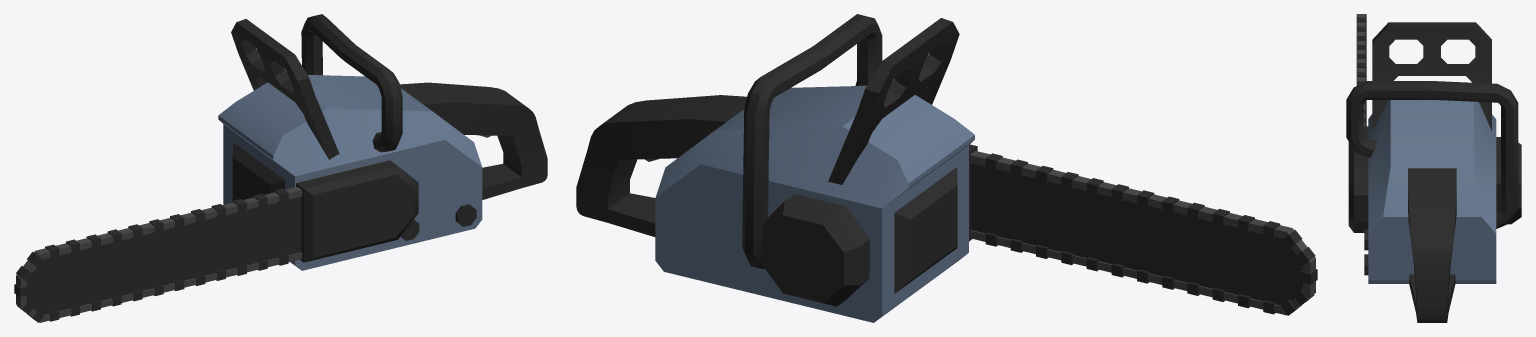
Rendered from Chainsaw_01.fbx.
3 views of the same model, side by side, from view 1: azimuth 30°, elevation 25°; view 2: azimuth 150°, elevation 25°; view 3: azimuth 270°, elevation 25° (orthographic). The views are drawn at different scales.
Parts seen in each view (by area): view 1: Chainsaw_01; view 2: Chainsaw_01; view 3: Chainsaw_01.
Part boxes in pixels (left/top/right/bottom): Chainsaw_01: left=14, top=14, right=547, bottom=322; Chainsaw_01: left=576, top=14, right=1317, bottom=322; Chainsaw_01: left=1346, top=14, right=1521, bottom=322.
Bounding box in the file's own units: 91.02 × 32.01 × 27.59.
